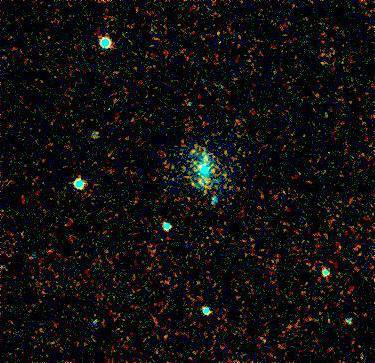star: (193, 146, 223, 176)
